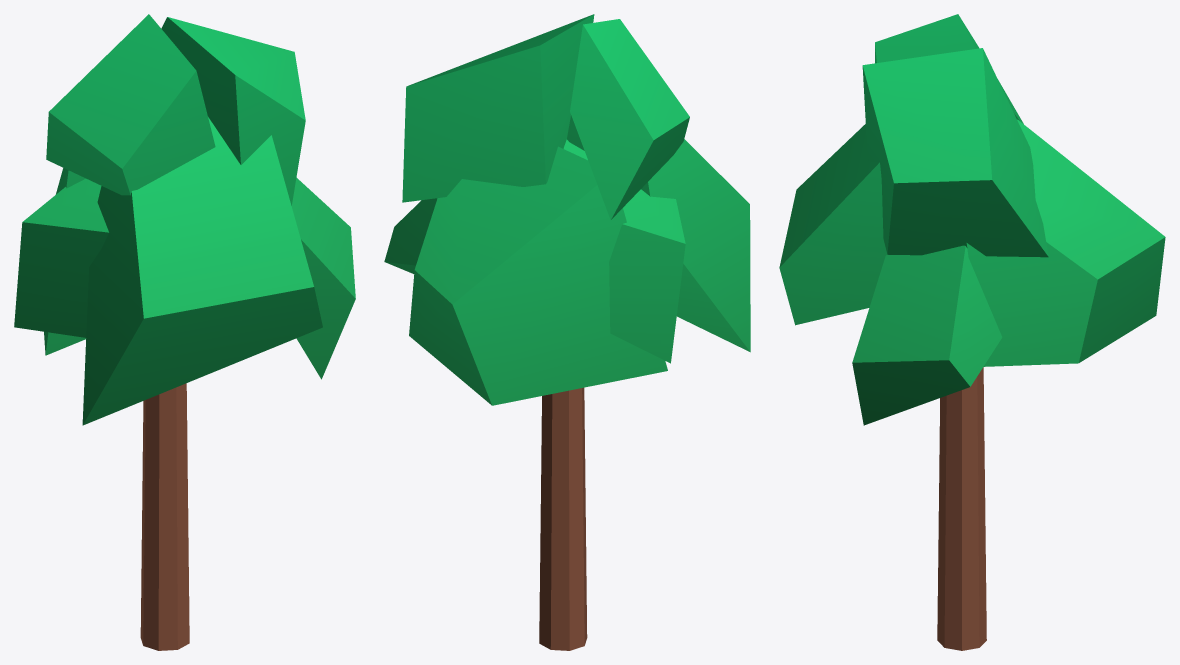
Rendered from fall_tree3.glb.
3 views of the same model, side by side, from view 1: azimuth 30°, elevation 25°; view 2: azimuth 150°, elevation 25°; view 3: azimuth 270°, elevation 25° (orthographic). The views are drawn at different scales.
Visible parts, largest first — view 1: Tree_41_gradient_green; view 2: Tree_41_gradient_green; view 3: Tree_41_gradient_green.
Part boxes in pixels (left/top/right/bottom): Tree_41_gradient_green: left=14, top=14, right=355, bottom=650; Tree_41_gradient_green: left=384, top=14, right=750, bottom=650; Tree_41_gradient_green: left=779, top=14, right=1165, bottom=650.
Bounding box in the file's own units: 1.2 × 2.29 × 1.3.
Materials: 1 (1 with a texture image).
